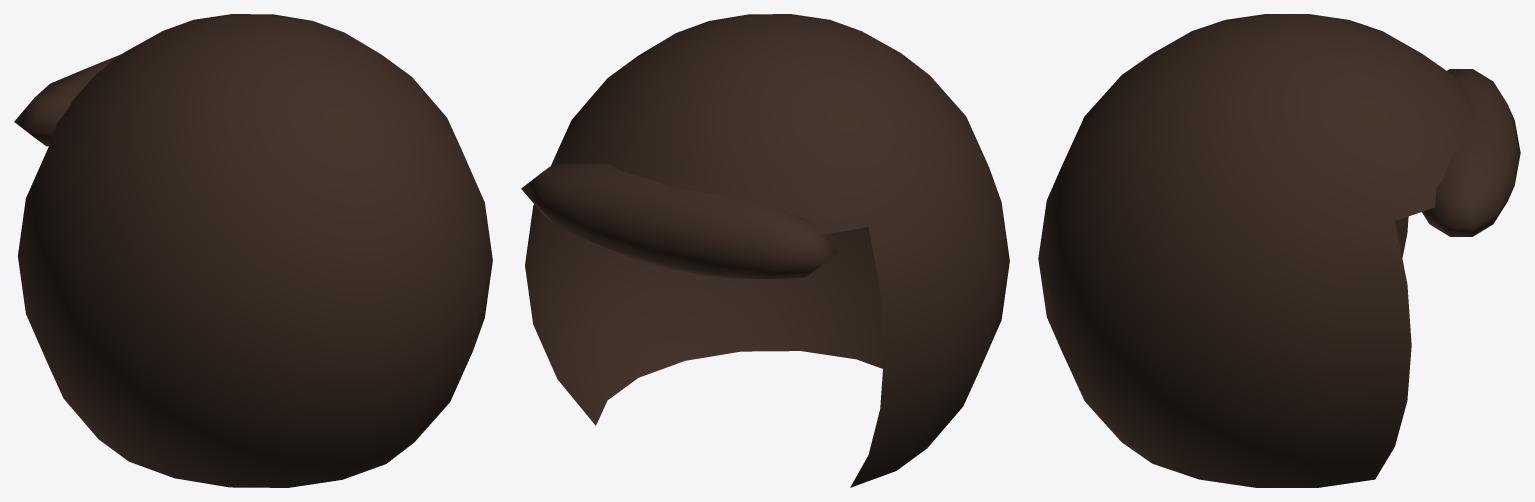
File: hair_9.glb
The picture shows the model from 3 angles, left to right: view 1: azimuth 30°, elevation 25°; view 2: azimuth 150°, elevation 25°; view 3: azimuth 270°, elevation 25°; orthographic projection. The views are drawn at different scales.
Visible parts, largest first — view 1: Head; view 2: Head; view 3: Head.
Part boxes in pixels (x1=…): Head: x1=14, y1=14, x2=492, y2=487; Head: x1=521, y1=14, x2=1009, y2=487; Head: x1=1038, y1=14, x2=1520, y2=487.
Bounding box in the file's own units: 0.26 × 0.2366 × 0.2686.
